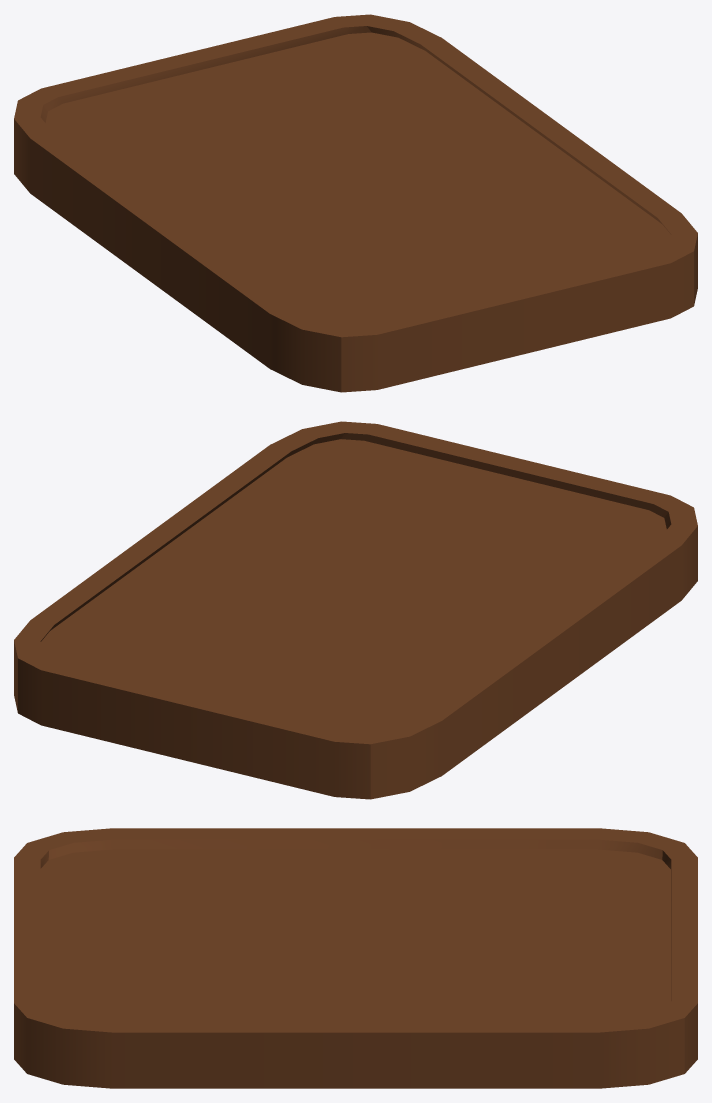
File: table.fbx
3 renders of one model, top to bottom at view 1: azimuth 30°, elevation 25°; view 2: azimuth 150°, elevation 25°; view 3: azimuth 270°, elevation 25°, orthographic.
Parts seen in each view (by area): view 1: Cube.016; view 2: Cube.016; view 3: Cube.016.
Boxes of the visible parts, x1,y1,x2,y2 form: Cube.016: (14,14,697,392); Cube.016: (14,421,697,799); Cube.016: (14,828,697,1088).
Bounding box in the file's own units: 640 × 82.06 × 906.
